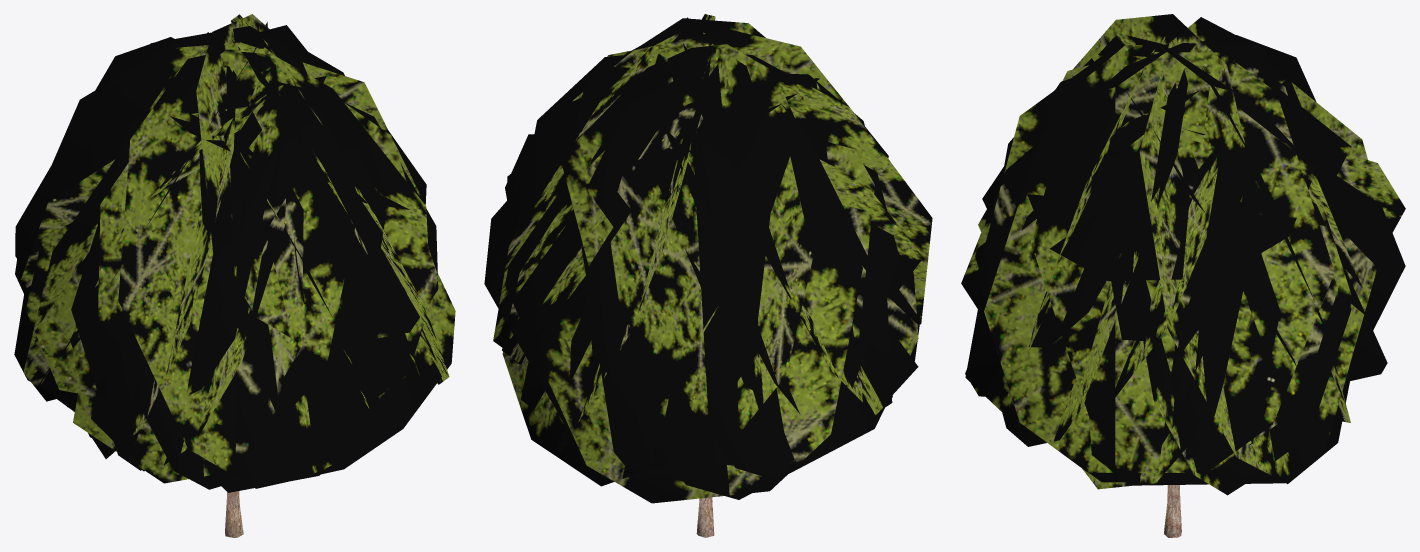
Rendered from tree.fbx.
The picture shows the model from 3 angles, left to right: view 1: azimuth 30°, elevation 25°; view 2: azimuth 150°, elevation 25°; view 3: azimuth 270°, elevation 25°; orthographic projection.
Parts seen in each view (by area): view 1: Tree_LOD0; view 2: Tree_LOD0; view 3: Tree_LOD0.
Boxes of the visible parts, <box> form: Tree_LOD0: <box>14,14,455,537</box>; Tree_LOD0: <box>484,14,932,537</box>; Tree_LOD0: <box>961,14,1405,537</box>.
Size of what is drawn, in the model's own units: 963 by 1250 by 988.
